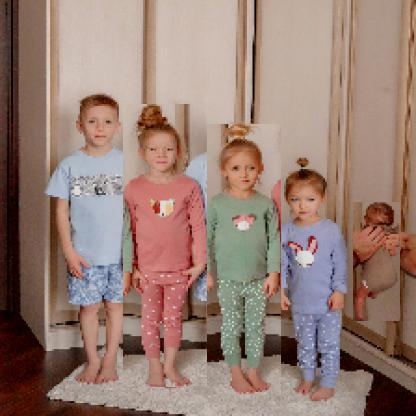child: (45, 94, 151, 390), (124, 105, 209, 389), (198, 125, 283, 397), (276, 157, 349, 401), (354, 203, 402, 323)
